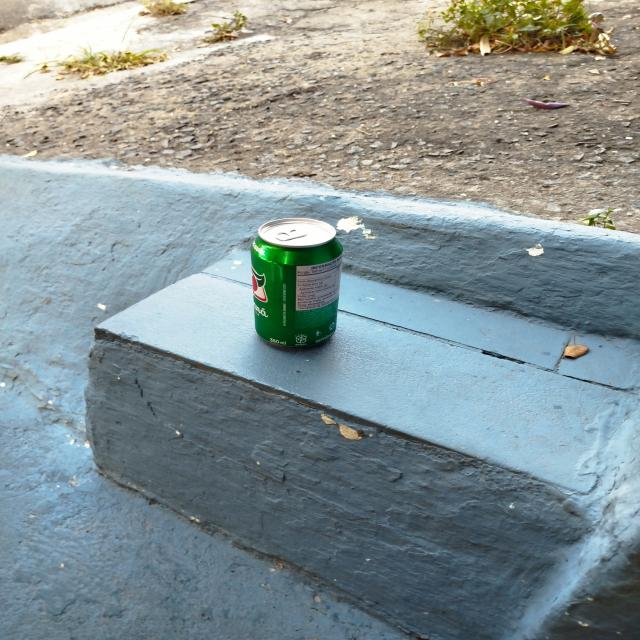Guarana: (252, 219, 347, 345)
